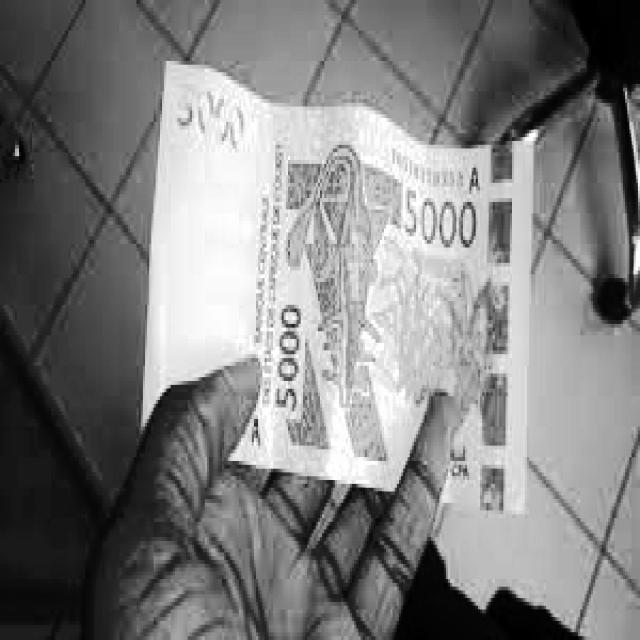junni: (143, 62, 532, 513)
